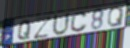8: (90, 8, 105, 31)
C: (70, 11, 88, 34)
Q: (107, 6, 125, 28), (17, 19, 33, 41)
U: (51, 12, 71, 37)
Z: (33, 15, 53, 41)
